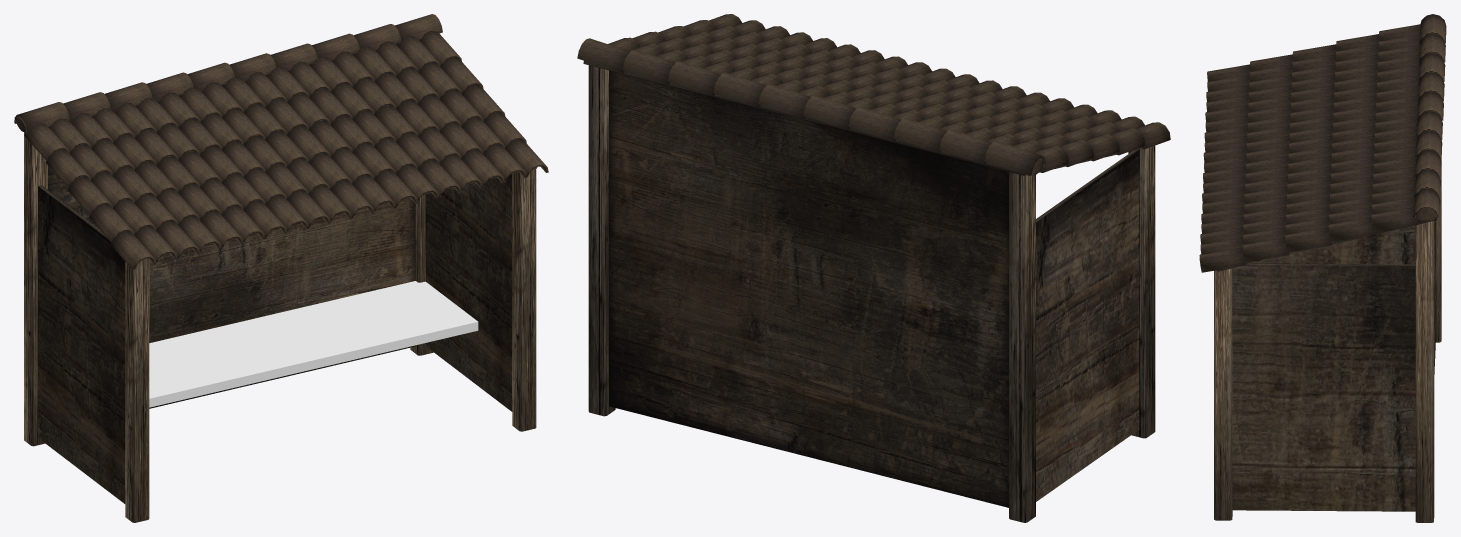
The model's file is shed.fbx.
3 views of the same model, side by side, from view 1: azimuth 30°, elevation 25°; view 2: azimuth 150°, elevation 25°; view 3: azimuth 270°, elevation 25° (orthographic). The views are drawn at different scales.
Parts seen in each view (by area): view 1: prim2, prim1, prim0; view 2: prim0, prim1, prim2; view 3: prim1, prim2.
Boxes of the visible parts, bbox=[...] form: prim2: bbox=[14, 14, 548, 269]; prim1: bbox=[24, 44, 537, 522]; prim0: bbox=[48, 166, 415, 408]; prim0: bbox=[609, 70, 1008, 507]; prim1: bbox=[583, 61, 1155, 522]; prim2: bbox=[577, 14, 1170, 175]; prim1: bbox=[1214, 52, 1441, 522]; prim2: bbox=[1199, 14, 1446, 272].
Bounding box in the file's own units: 430 × 328 × 229.
Materials: 14 (13 with a texture image).
